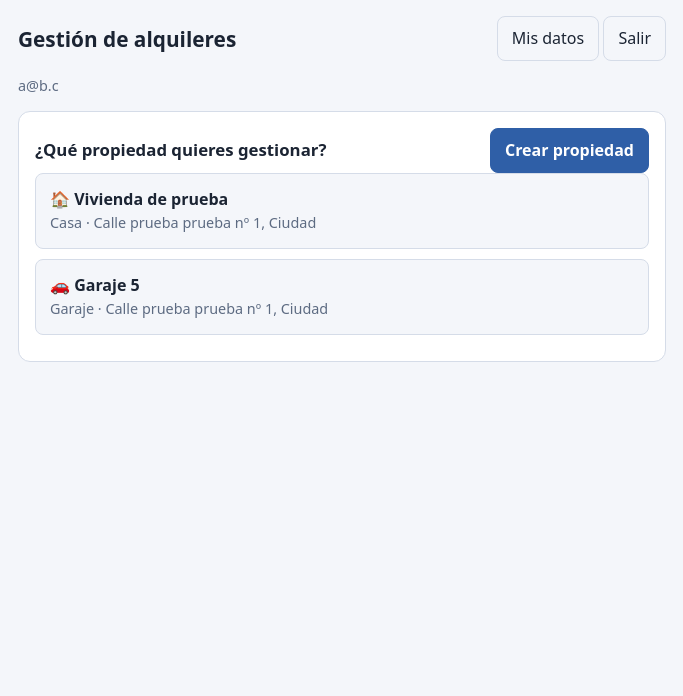
Scenario: al abrir un garaje se va directamente a la plaza de garaje
Click the text "🚗 Garaje 5".
click(95, 286)  # box top-left (50, 274), bottom-right (140, 297)
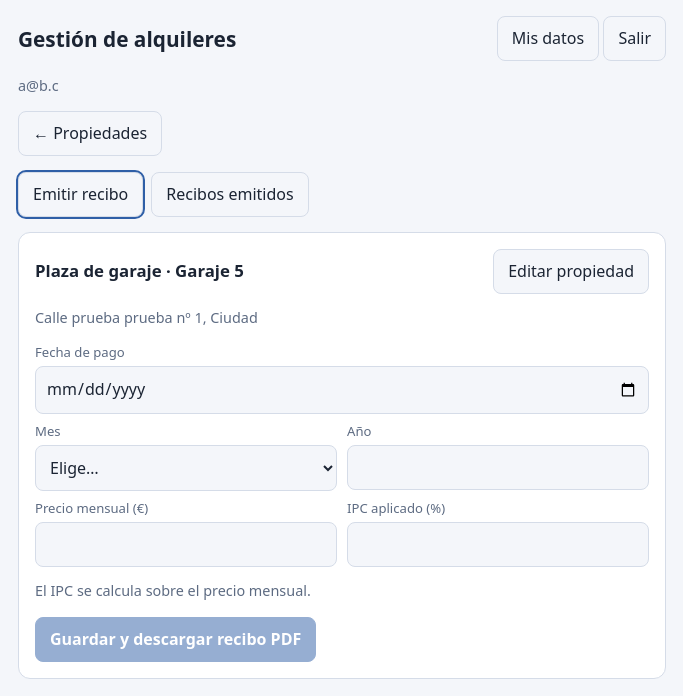
Expected: the heading "Plaza de garaje · Garaje 5" is shown, top-left (35, 259), bottom-right (244, 283)
